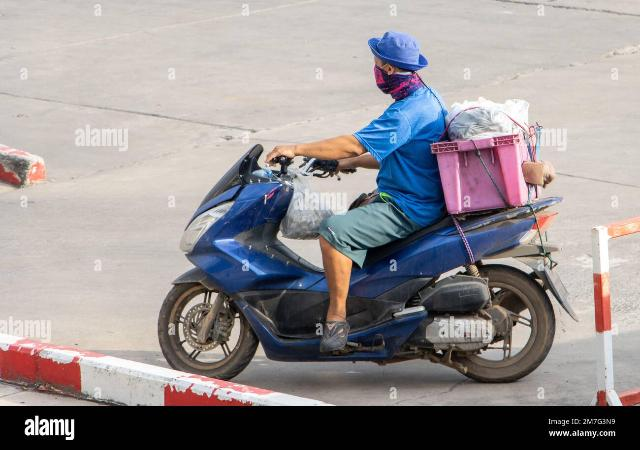motor: (160, 134, 570, 382)
non-helm: (369, 33, 429, 96)
